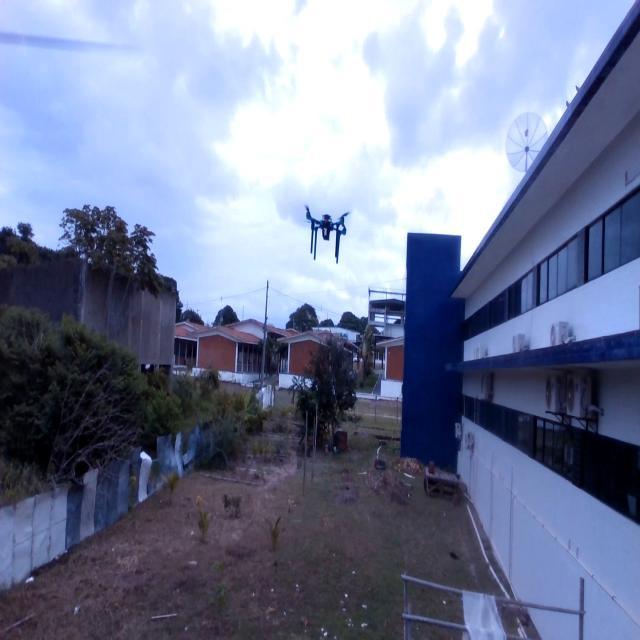-uav-: (299, 182, 356, 276)
